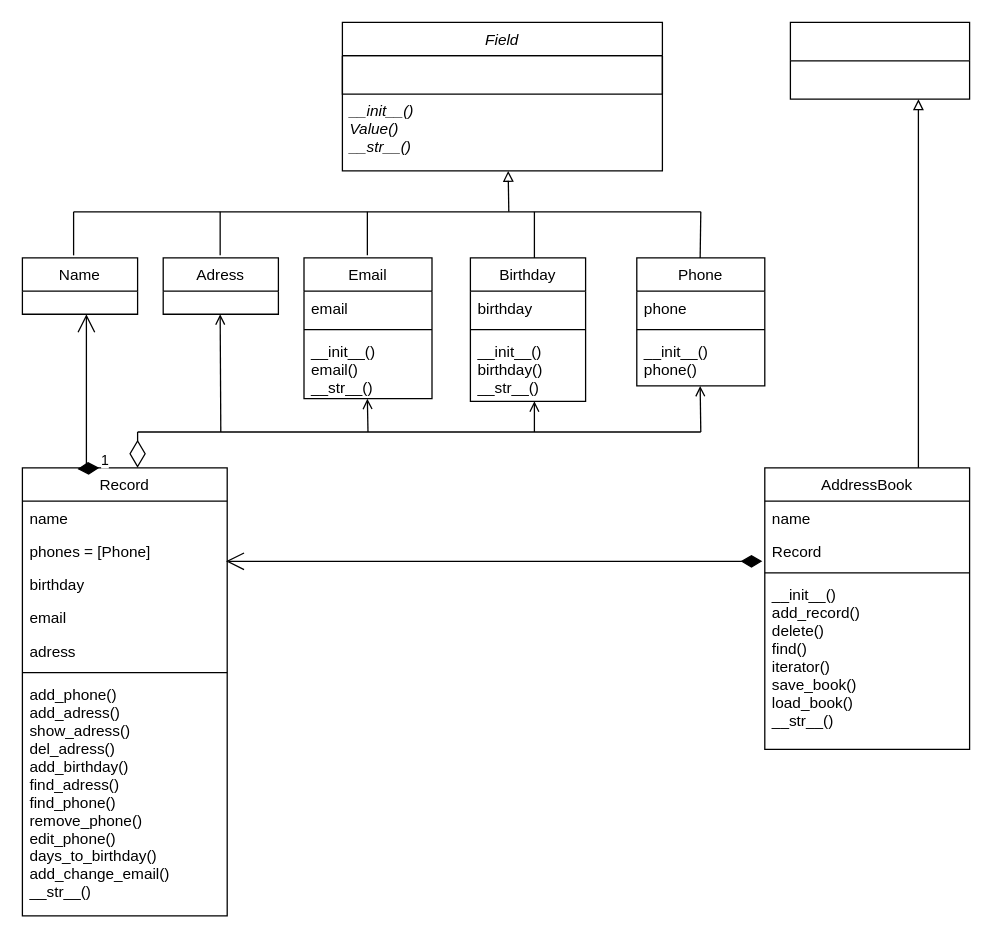
Image size: 992x938. Some labels were removed from this diagram. The centre of each missing label's shape, as x and y in pixels:
UserDict: (x=879, y=60)
Value: (x=501, y=74)
